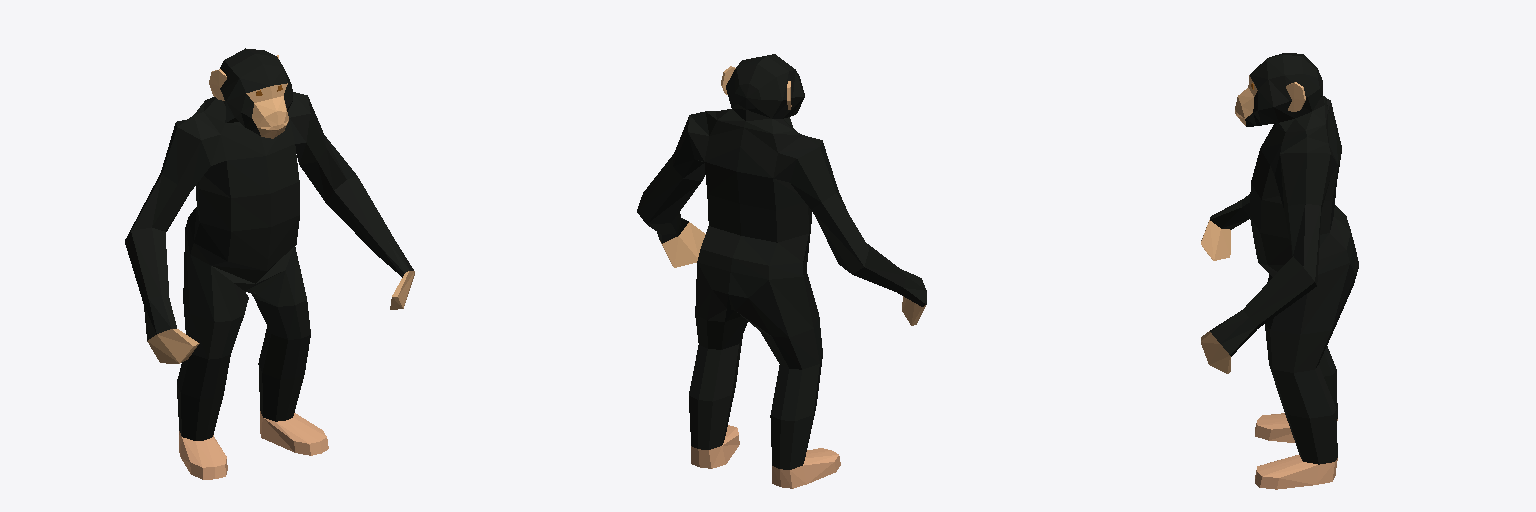
3 renders of one model, left to right at view 1: azimuth 30°, elevation 25°; view 2: azimuth 150°, elevation 25°; view 3: azimuth 270°, elevation 25°, orthographic.
Visible parts, largest first — view 1: Geo_Chimpanzee; view 2: Geo_Chimpanzee; view 3: Geo_Chimpanzee.
Boxes of the visible parts, box(x1,y1,x2,y2) form: Geo_Chimpanzee: box(125, 48, 414, 479); Geo_Chimpanzee: box(637, 54, 926, 488); Geo_Chimpanzee: box(1201, 53, 1358, 489).
Bounding box in the file's own units: 81.78 × 118 × 42.09.
1 materials, 1 textured.